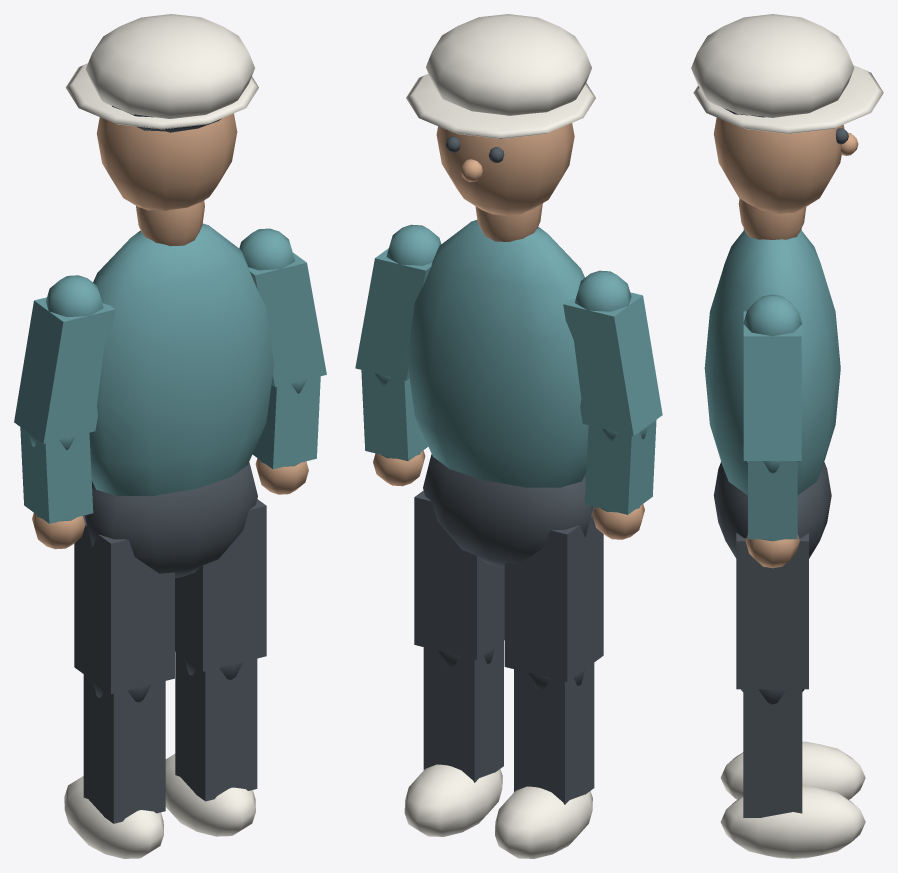
File: person-teknisi-stand.glb
3 renders of one model, left to right at view 1: azimuth 30°, elevation 25°; view 2: azimuth 150°, elevation 25°; view 3: azimuth 270°, elevation 25°, orthographic.
Visible parts, largest first — view 1: person-teknisi-stand; view 2: person-teknisi-stand; view 3: person-teknisi-stand.
Part boxes in pixels (<box>): person-teknisi-stand: <box>14,14,326,858</box>; person-teknisi-stand: <box>355,14,662,858</box>; person-teknisi-stand: <box>691,14,883,858</box>.
Size of the model in its own units: 0.71 by 1.96 by 0.425.
